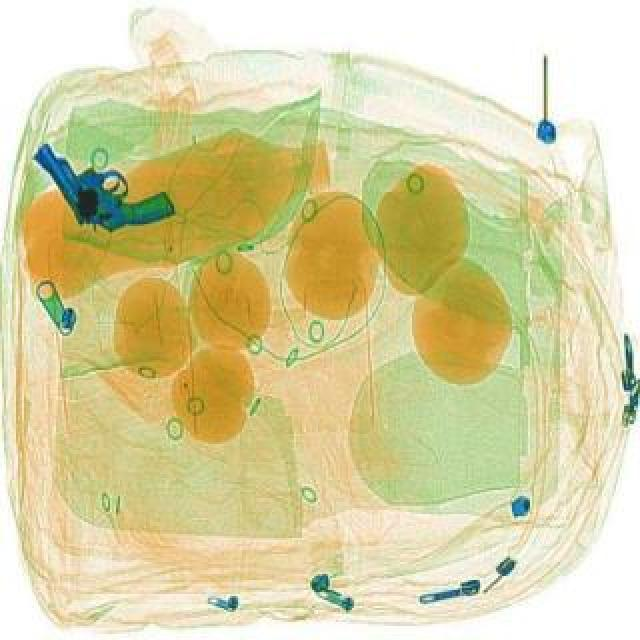gun: (4, 116, 182, 264)
